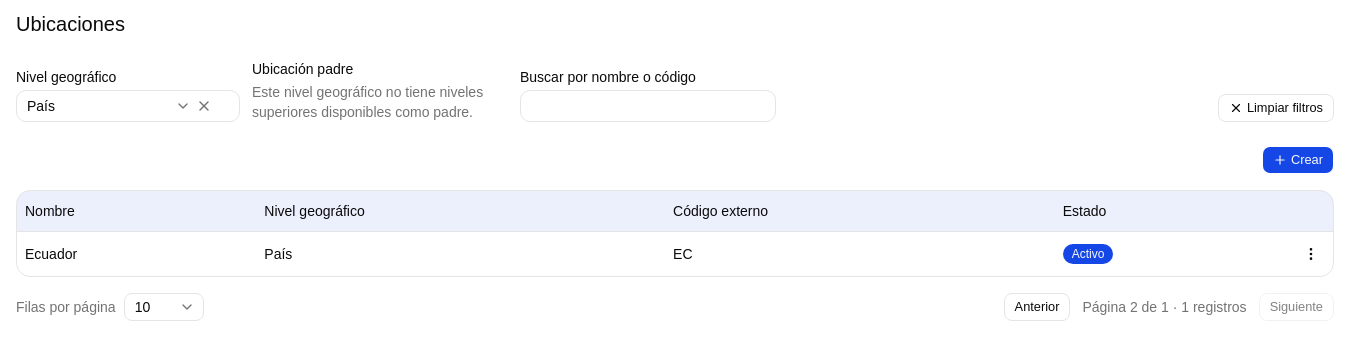
Test: GeoLocationListPage — botón único «Limpiar filtros» en el extremo derecho › con un filtro activo se habilita aunque haya resultados, y limpiarlo deja page en 1
expect the text "Ecuador" is shown: met, box x1=17 y1=231 x2=256 y2=276
Click the button "Limpiar filtros" at point(1276, 108), box x1=1218 y1=94 x2=1334 y2=122
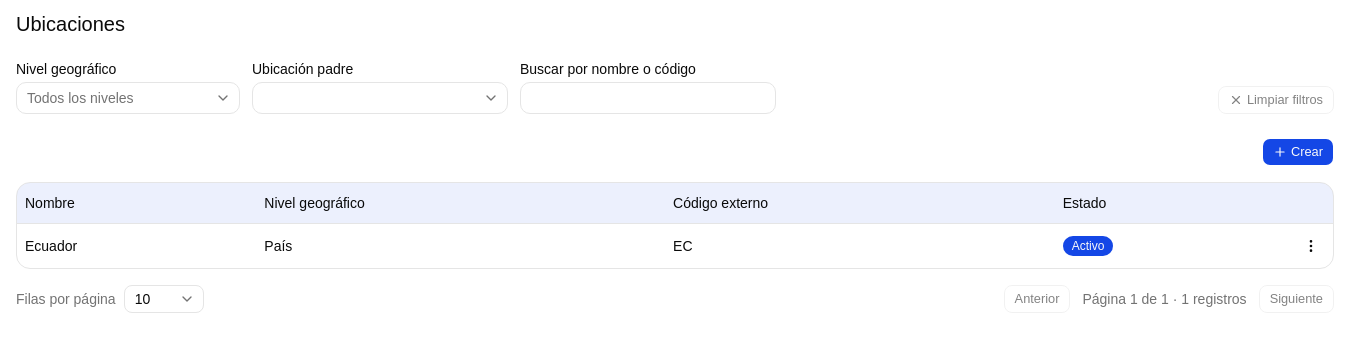
expect the button "Limpiar filtros" is disabled: met, box x1=1218 y1=86 x2=1334 y2=114
